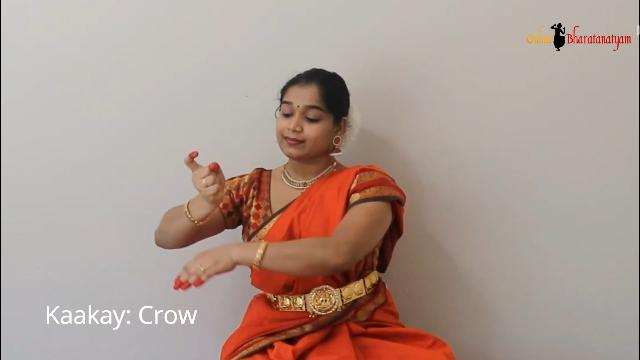tamrachud: (155, 138, 243, 216)
